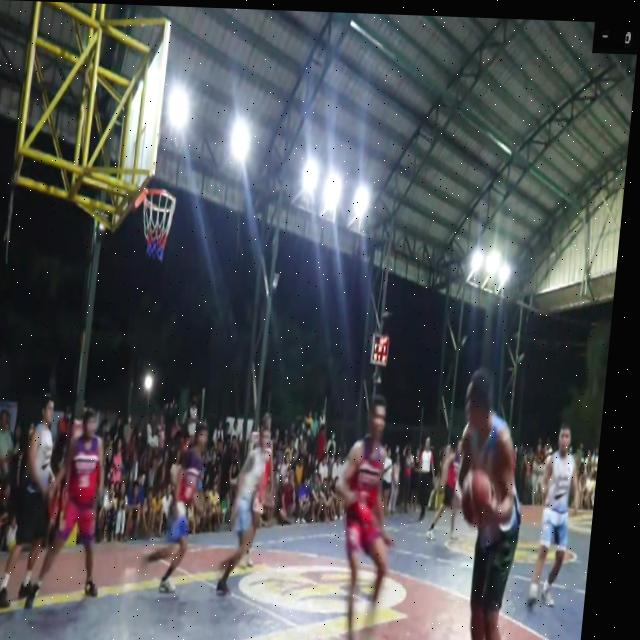basketball: (451, 466, 497, 534)
hoop: (132, 178, 180, 272)
